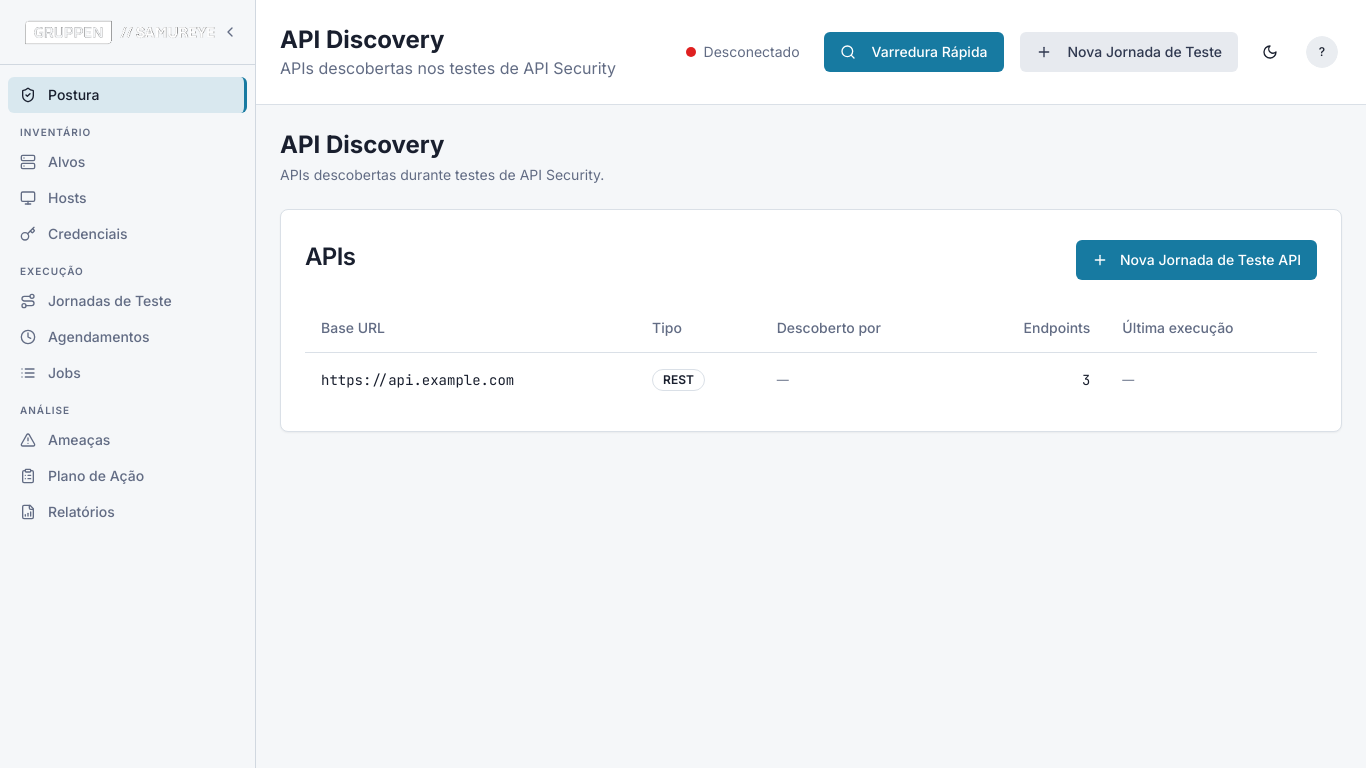
it: UI-02 — API Endpoint Drilldown Sheet › method Badge color applies METHOD_COLORS (e.g. GET → green class)
Click the row with test id "api-row-a1": (418, 380) [305, 352, 1317, 406]
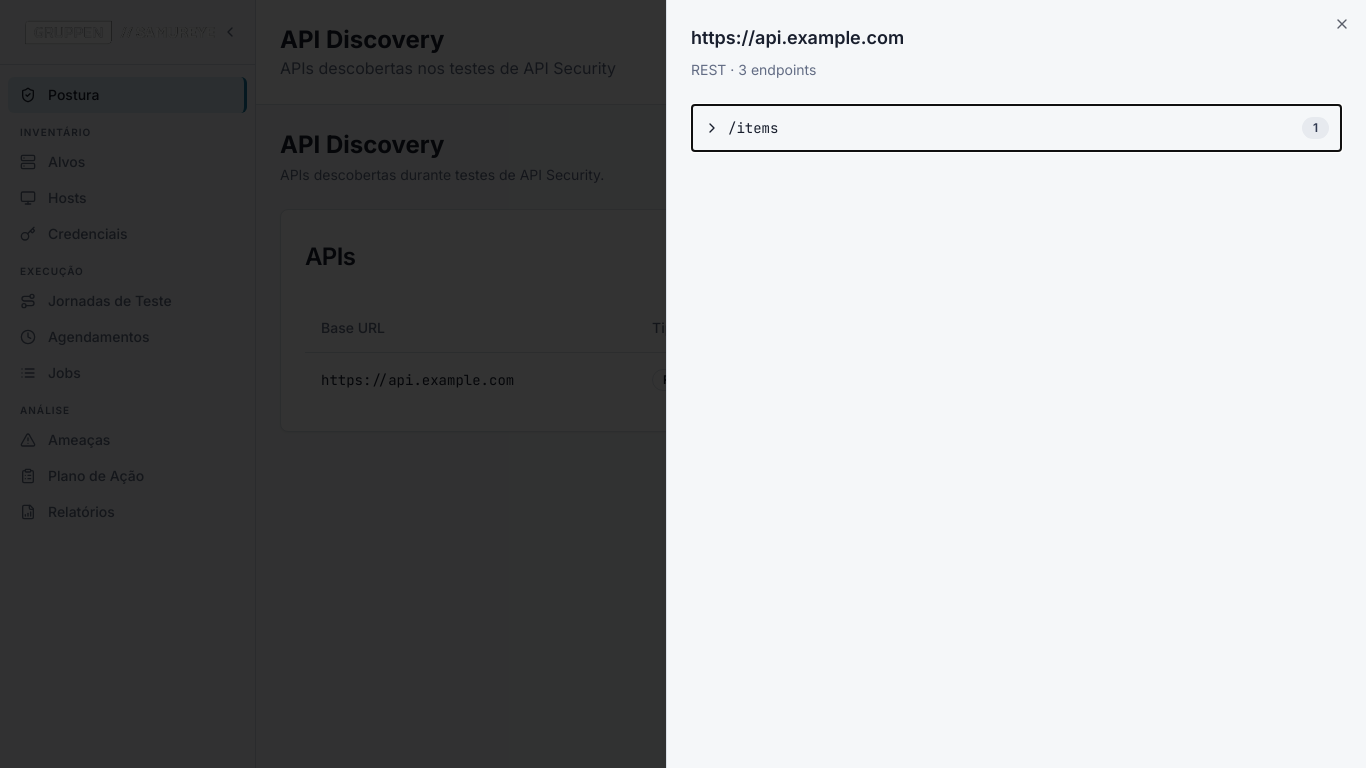
Click the button "/items 1": (753, 128) [692, 105, 1341, 151]
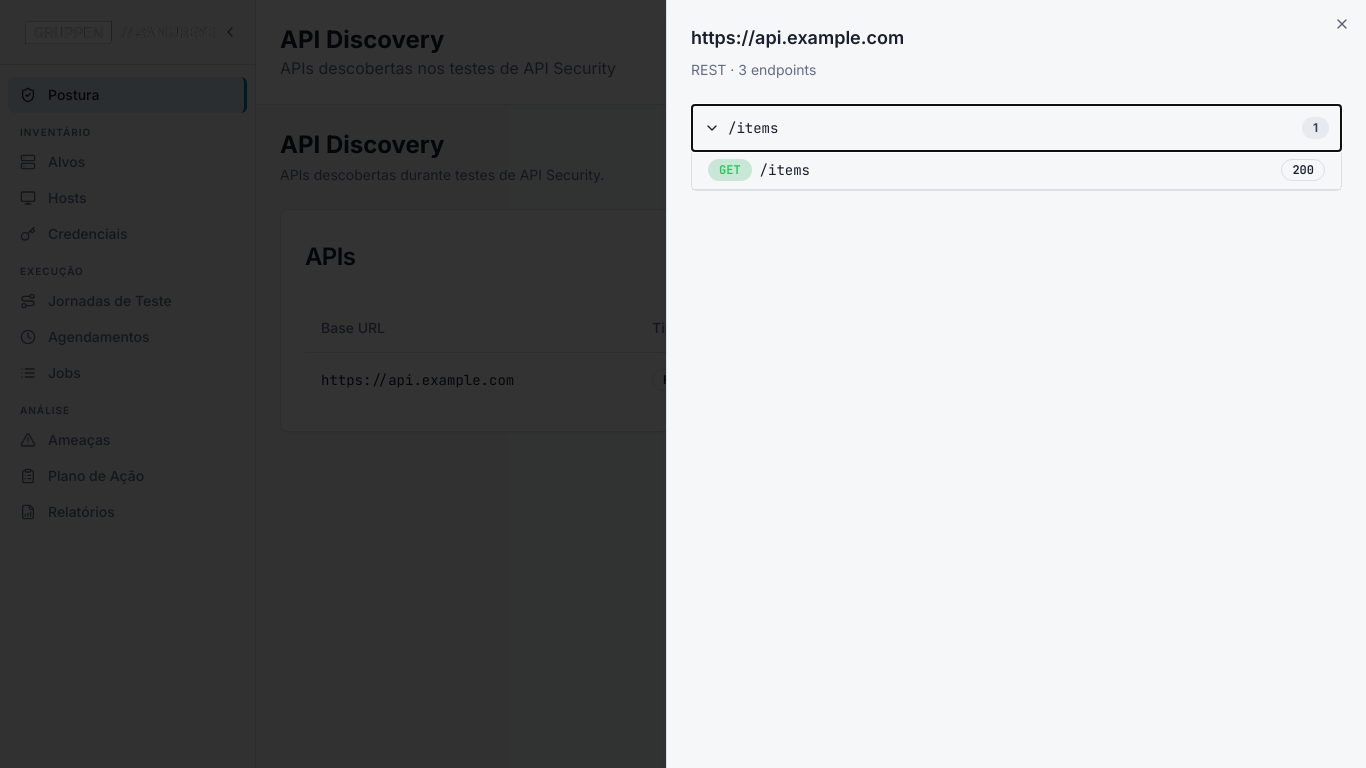
Expected: the text "GET" is shown, [708, 159, 752, 181]
